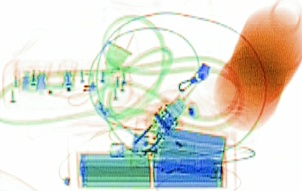powerbank: (75, 112, 227, 188)
